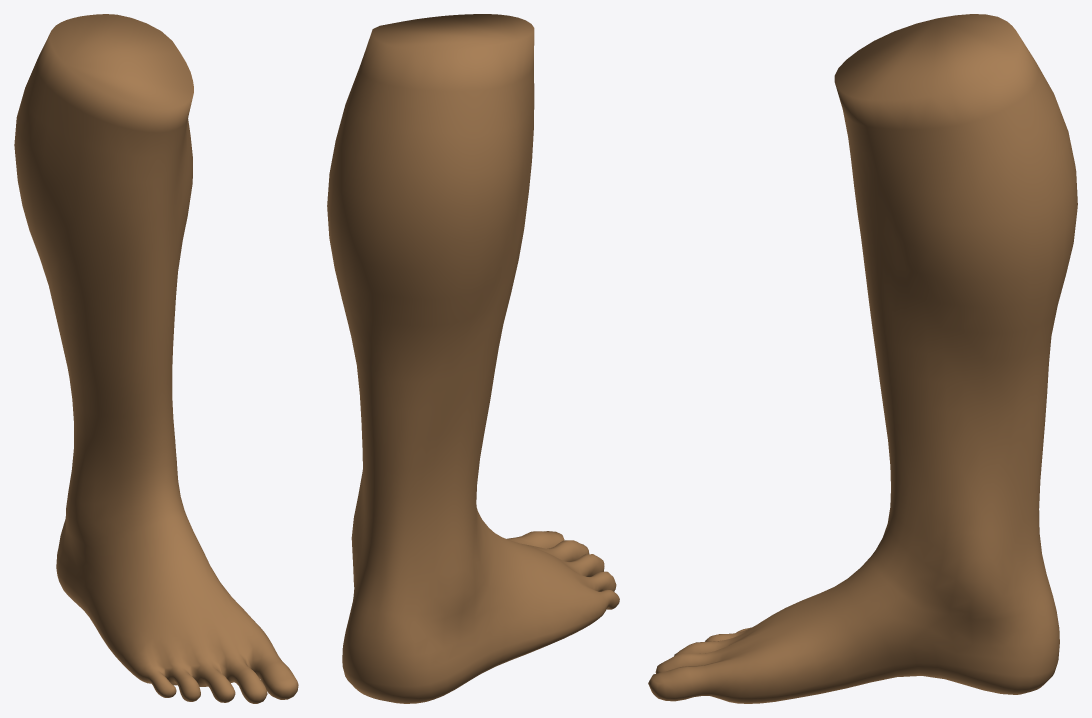
File: BigFoot.fbx
The picture shows the model from 3 angles, left to right: view 1: azimuth 30°, elevation 25°; view 2: azimuth 150°, elevation 25°; view 3: azimuth 270°, elevation 25°; orthographic projection. The views are drawn at different scales.
Visible parts, largest first — view 1: default; view 2: default; view 3: default.
Part boxes in pixels (bbox=[...]): default: bbox=[14, 14, 298, 703]; default: bbox=[327, 14, 619, 703]; default: bbox=[648, 14, 1077, 703].
Size of the model in its own units: 131 by 477 by 290.
